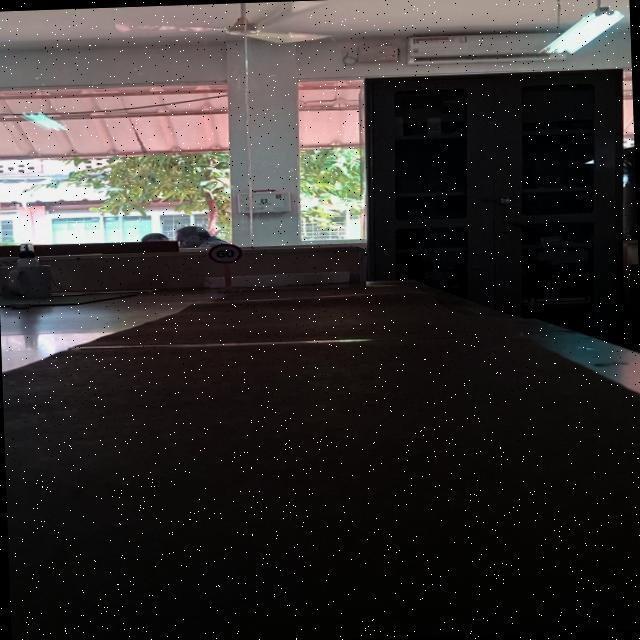Speed60: (206, 242, 243, 265)
